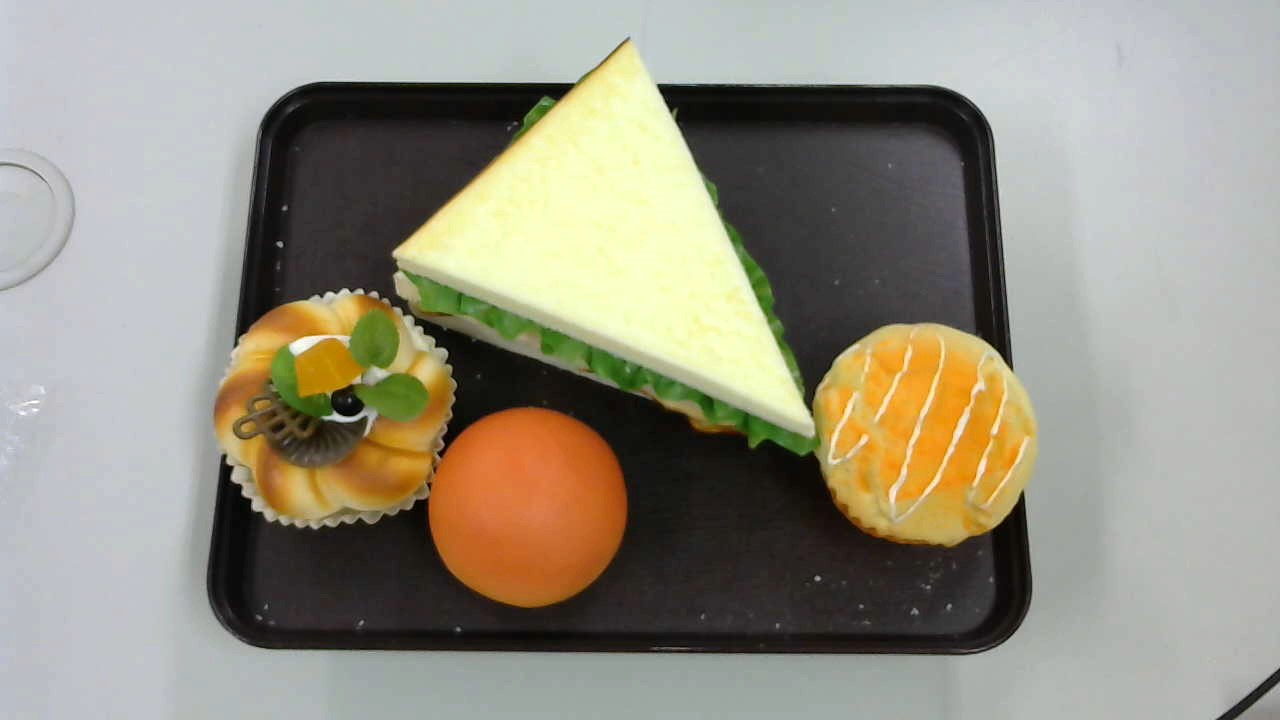bun: (429, 407, 629, 610)
cupcake: (809, 320, 1040, 549)
fruit tart: (211, 286, 456, 529)
sandwich: (389, 36, 818, 458)
